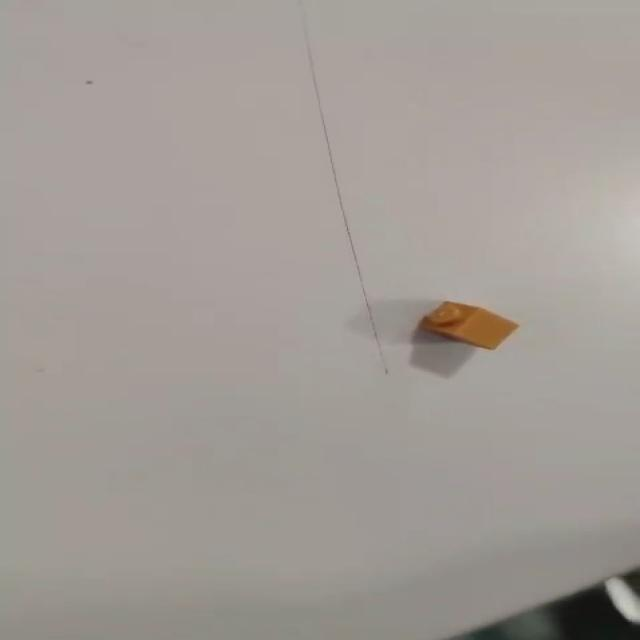C1x1x1: (418, 299, 520, 351)
